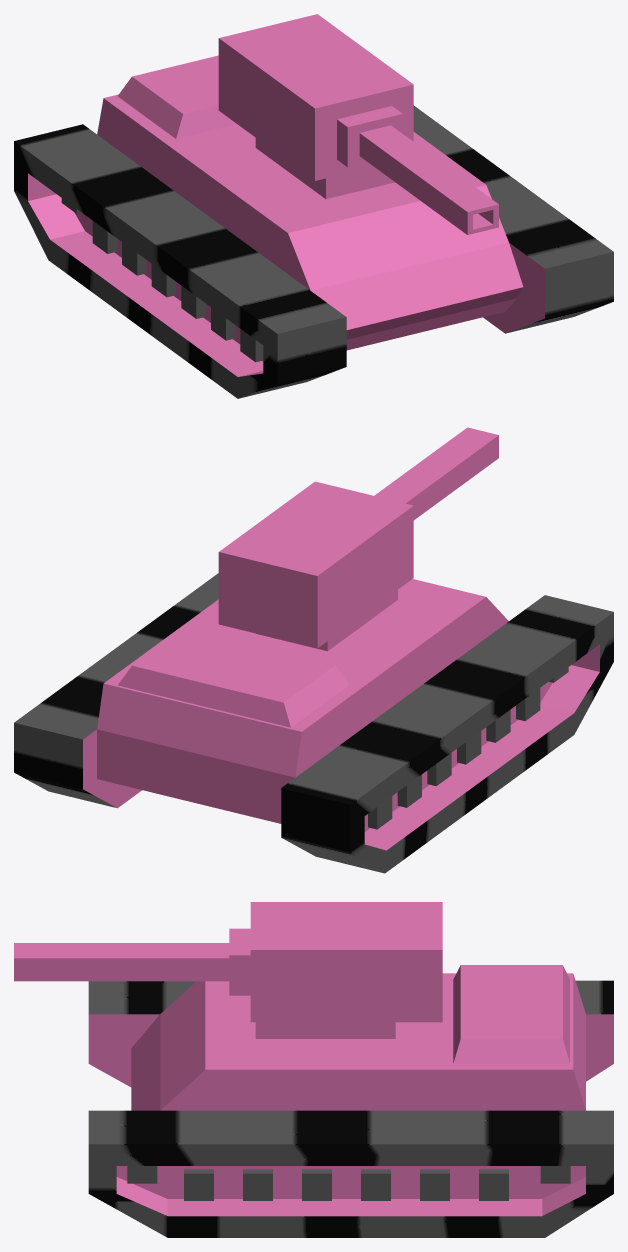
Rendered from sensha07.fbx.
3 views of the same model, one above another, from view 1: azimuth 30°, elevation 25°; view 2: azimuth 150°, elevation 25°; view 3: azimuth 270°, elevation 25° (orthographic).
Parts seen in each view (by area): view 1: polySurface6, polySurface4, polySurface2, polySurface3, pCube17, pCube16, pCube19, pCube18, pCube15, pCube14; view 2: polySurface6, polySurface4, polySurface2, polySurface3; view 3: polySurface6, polySurface3, polySurface2, polySurface4, pCube6, pCube7, pCube8, pCube9, pCube10, pCube11, pCube3, pCube4.
Part boxes in pixels (bbox=[...]): polySurface6: bbox=[28, 55, 544, 376]; polySurface4: bbox=[14, 124, 346, 398]; polySurface2: bbox=[218, 14, 498, 234]; polySurface3: bbox=[413, 105, 613, 332]; pCube17: bbox=[151, 264, 175, 297]; pCube16: bbox=[181, 285, 205, 318]; pCube19: bbox=[92, 221, 116, 253]; pCube18: bbox=[122, 242, 146, 275]; pCube15: bbox=[211, 307, 235, 340]; pCube14: bbox=[240, 329, 263, 362]; polySurface6: bbox=[83, 579, 599, 850]; polySurface4: bbox=[281, 595, 613, 873]; polySurface2: bbox=[218, 427, 498, 651]; polySurface3: bbox=[14, 573, 218, 807]; polySurface6: bbox=[88, 965, 613, 1216]; polySurface3: bbox=[88, 1110, 613, 1237]; polySurface2: bbox=[14, 902, 442, 1038]; polySurface4: bbox=[88, 980, 613, 1014]; pCube6: bbox=[184, 1169, 213, 1200]; pCube7: bbox=[243, 1169, 272, 1200]; pCube8: bbox=[302, 1169, 331, 1200]; pCube9: bbox=[361, 1169, 390, 1200]; pCube10: bbox=[420, 1169, 449, 1200]; pCube11: bbox=[479, 1169, 508, 1200]; pCube3: bbox=[127, 1166, 157, 1183]; pCube4: bbox=[540, 1166, 570, 1183].
Size of the model in its own units: 385 by 253 by 597.
Materials: 3 (1 with a texture image).
